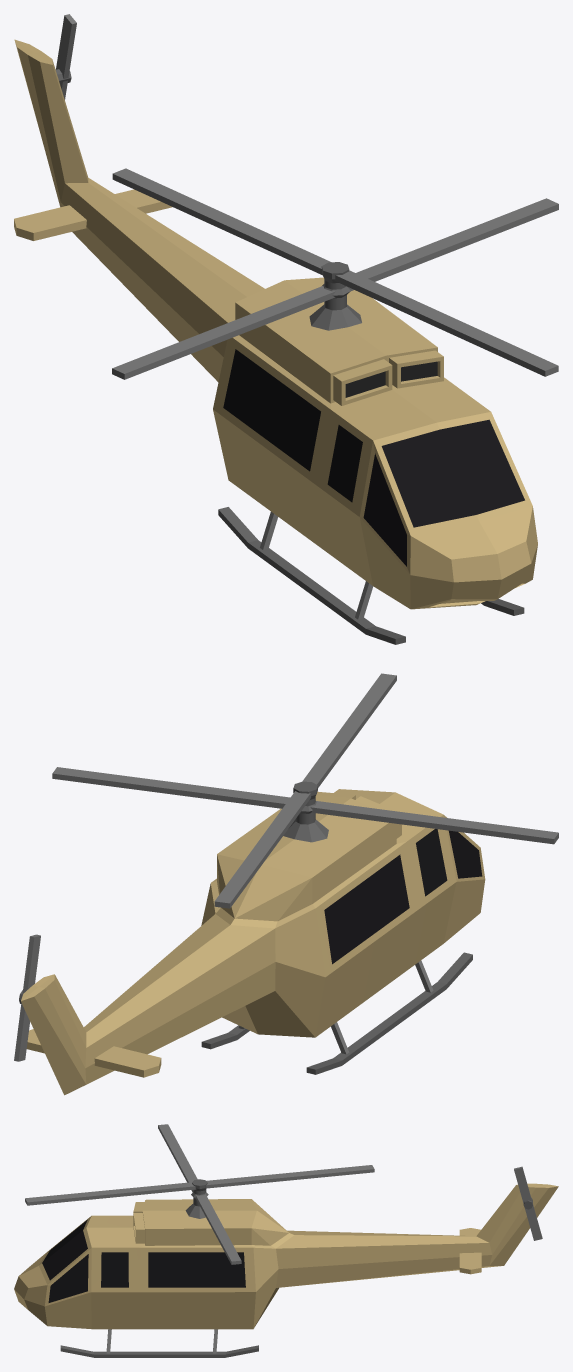
Rendered from Helicopter_02.fbx.
The picture shows the model from 3 angles, top to bottom: view 1: azimuth 30°, elevation 25°; view 2: azimuth 150°, elevation 25°; view 3: azimuth 270°, elevation 25°; orthographic projection. The views are drawn at different scales.
Visible parts, largest first — view 1: Helicopter_02, Helicopter_02_Prop_R; view 2: Helicopter_02, Helicopter_02_Prop_R; view 3: Helicopter_02, Helicopter_02_Prop_R.
Boxes of the visible parts, <box> form: Helicopter_02: <box>14,39,558,644</box>; Helicopter_02_Prop_R: <box>55,14,76,99</box>; Helicopter_02: <box>21,673,558,1095</box>; Helicopter_02_Prop_R: <box>14,934,40,1061</box>; Helicopter_02: <box>14,1124,558,1357</box>; Helicopter_02_Prop_R: <box>514,1166,542,1240</box>.
Size of the model in its own units: 10.38 by 6.28 by 17.39.
